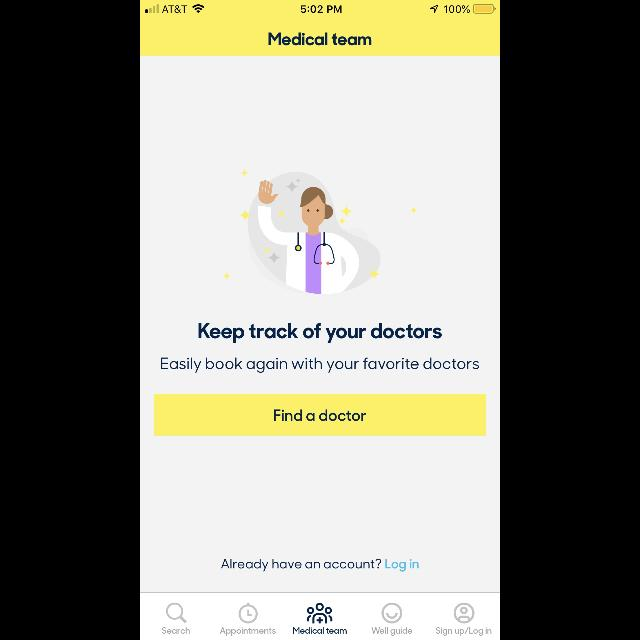icon: (307, 602, 333, 624), (166, 602, 188, 624), (454, 602, 474, 624), (238, 602, 258, 624)
image: (222, 170, 418, 294), (382, 602, 402, 624)
text: (198, 323, 442, 343), (161, 358, 479, 372), (222, 558, 418, 572), (268, 32, 372, 46), (220, 627, 276, 635), (436, 627, 492, 635), (372, 627, 412, 635), (294, 627, 346, 633), (162, 627, 190, 633)
textbutton: (154, 394, 486, 436)
uppertaskbar: (140, 0, 500, 14)
